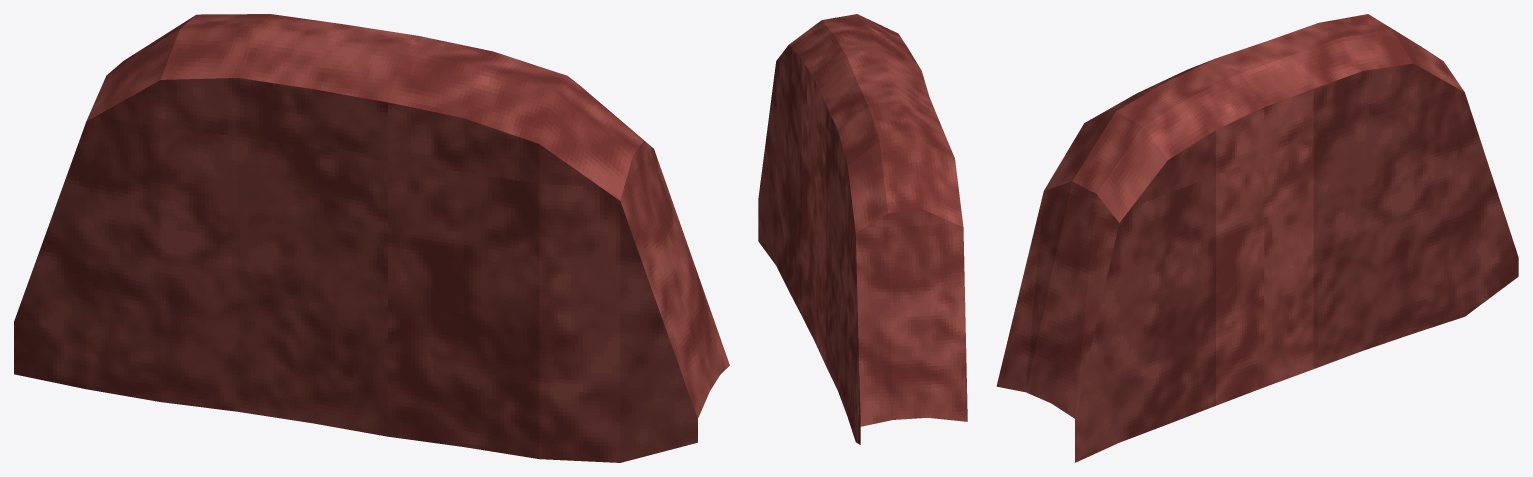
The model's file is map_base_lip139.glb.
3 renders of one model, left to right at view 1: azimuth 30°, elevation 25°; view 2: azimuth 150°, elevation 25°; view 3: azimuth 270°, elevation 25°, orthographic. The views are drawn at different scales.
Parts seen in each view (by area): view 1: MapBaseLip139Rock; view 2: MapBaseLip139Rock; view 3: MapBaseLip139Rock.
Part boxes in pixels (bbox=[...]): MapBaseLip139Rock: bbox=[14, 14, 729, 462]; MapBaseLip139Rock: bbox=[758, 14, 967, 444]; MapBaseLip139Rock: bbox=[996, 14, 1518, 462].
Size of what is drawn, in the model's own units: 6.36 by 4.51 by 6.97.
Materials: 2 (2 with a texture image).
